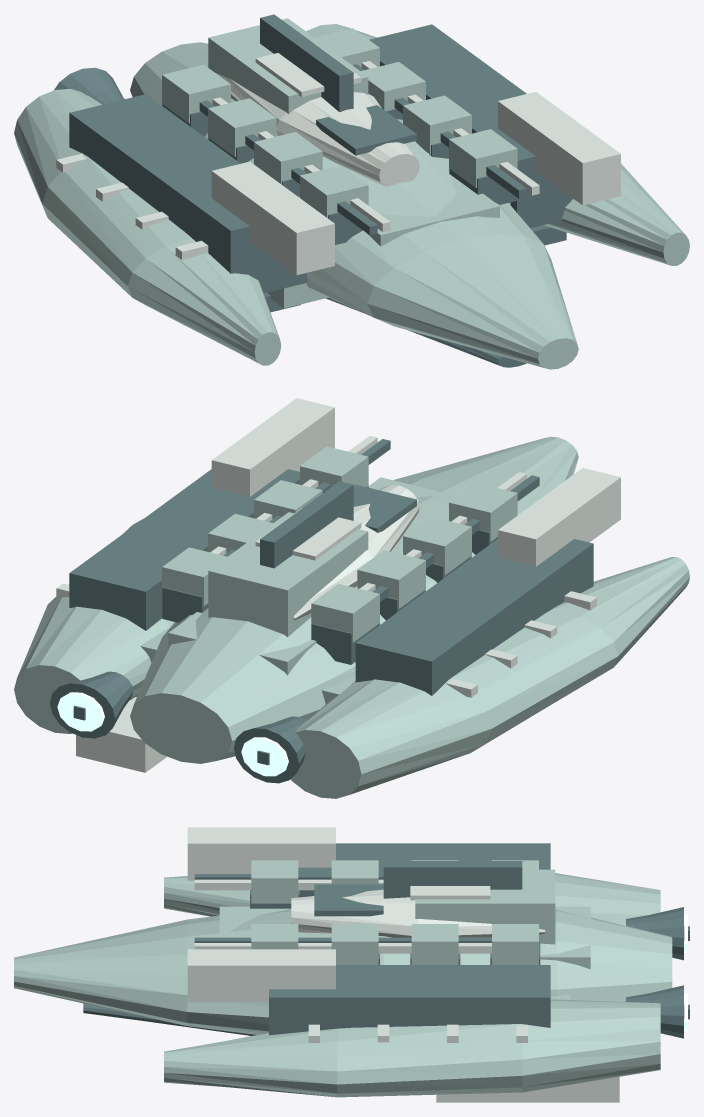
The picture shows the model from 3 angles, top to bottom: view 1: azimuth 30°, elevation 25°; view 2: azimuth 150°, elevation 25°; view 3: azimuth 270°, elevation 25°; orthographic projection. The views are drawn at different scales.
Bounding box in the file's own units: 19.73 × 7.96 × 26.99.
